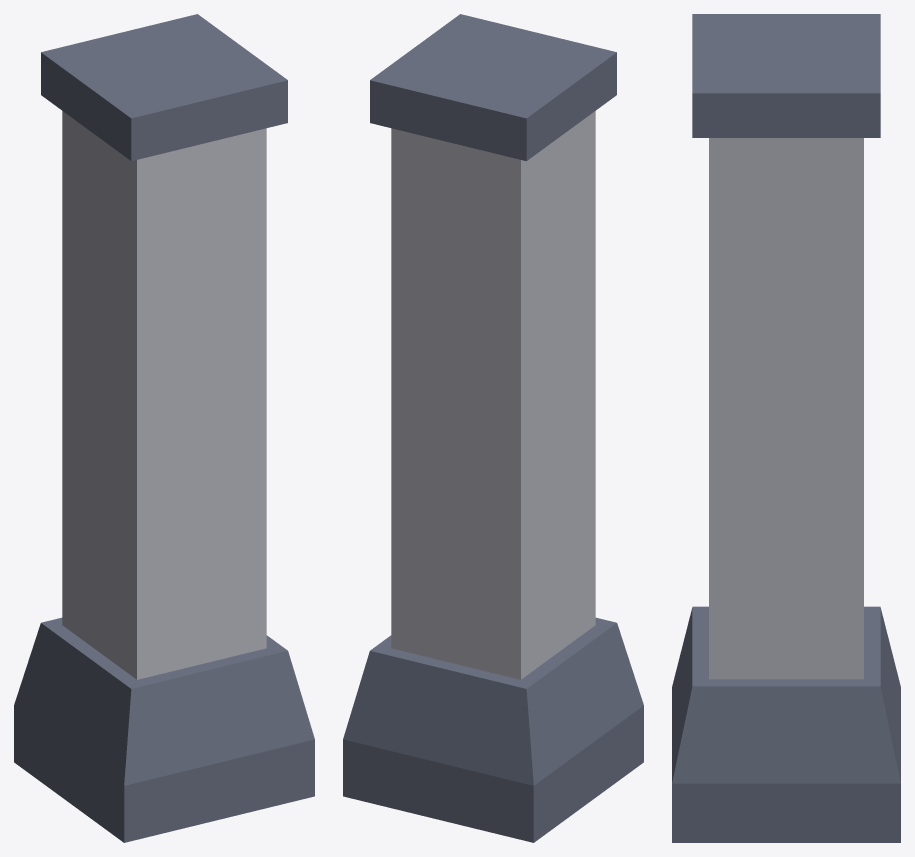
Rendered from bridge pillarWide.glb.
The picture shows the model from 3 angles, left to right: view 1: azimuth 30°, elevation 25°; view 2: azimuth 150°, elevation 25°; view 3: azimuth 270°, elevation 25°; orthographic projection. The views are drawn at different scales.
Visible parts, largest first — view 1: bridge_pillarWide-Mesh; view 2: bridge_pillarWide-Mesh; view 3: bridge_pillarWide-Mesh.
Part boxes in pixels (left/top/right/bottom): bridge_pillarWide-Mesh: left=14, top=14, right=314, bottom=842; bridge_pillarWide-Mesh: left=343, top=14, right=643, bottom=842; bridge_pillarWide-Mesh: left=672, top=14, right=900, bottom=842.
Bounding box in the file's own units: 0.14 × 0.5 × 0.14.
